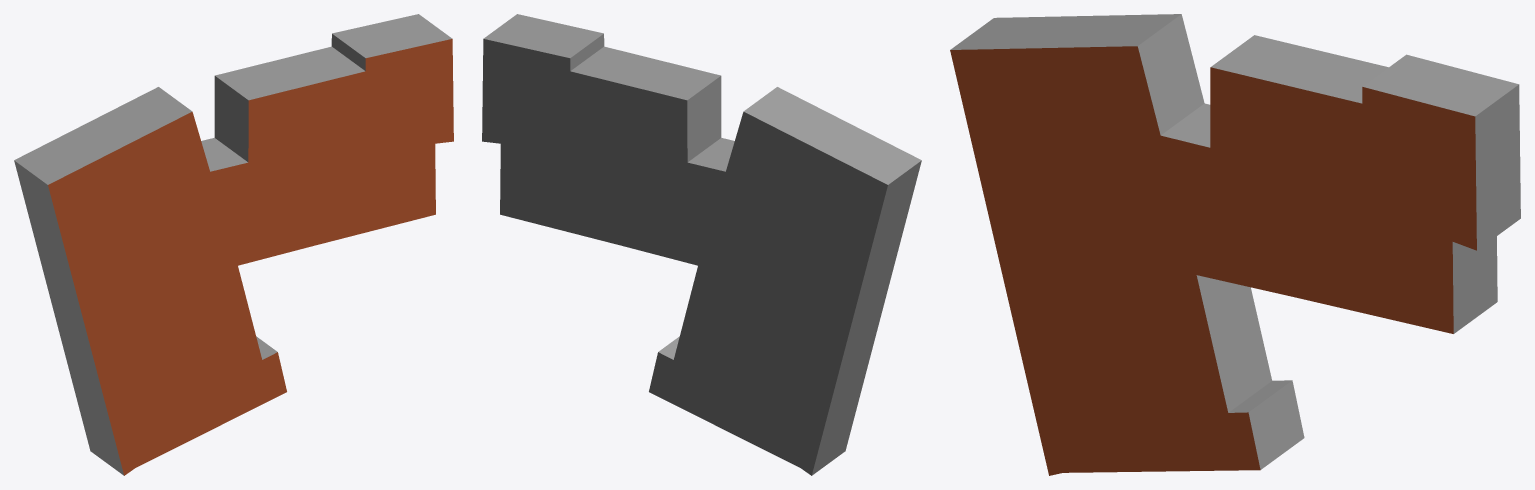
The model's file is construction_0526_assumed_A_Casa_h6m.obj.
The picture shows the model from 3 angles, left to right: view 1: azimuth 30°, elevation 25°; view 2: azimuth 150°, elevation 25°; view 3: azimuth 330°, elevation 25°; orthographic projection. The views are drawn at different scales.
Visible parts, largest first — view 1: construction_0526_assumed_A_Casa; view 2: construction_0526_assumed_A_Casa; view 3: construction_0526_assumed_A_Casa.
Part boxes in pixels (<box>): construction_0526_assumed_A_Casa: <box>14,14,453,475</box>; construction_0526_assumed_A_Casa: <box>482,14,921,475</box>; construction_0526_assumed_A_Casa: <box>950,14,1520,475</box>.
Size of the model in its own units: 41.52 by 35.06 by 6.
